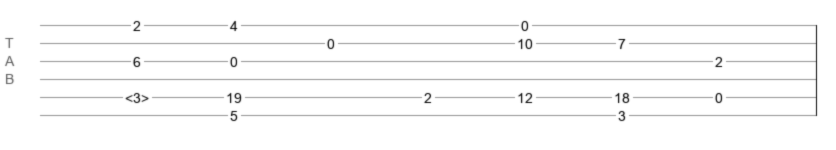0: (230, 54, 238, 64), (327, 36, 335, 46), (521, 18, 529, 28), (715, 90, 723, 100)
10: (517, 36, 533, 46)
12: (517, 90, 533, 100)
18: (614, 90, 630, 100)
19: (226, 90, 242, 100)
2: (133, 18, 141, 28), (424, 90, 432, 100), (715, 54, 723, 64)
3: (618, 108, 626, 118)
4: (230, 18, 238, 28)
5: (230, 108, 238, 118)
6: (133, 54, 141, 64)
7: (618, 36, 626, 46)
harmonic: (125, 90, 149, 100)
